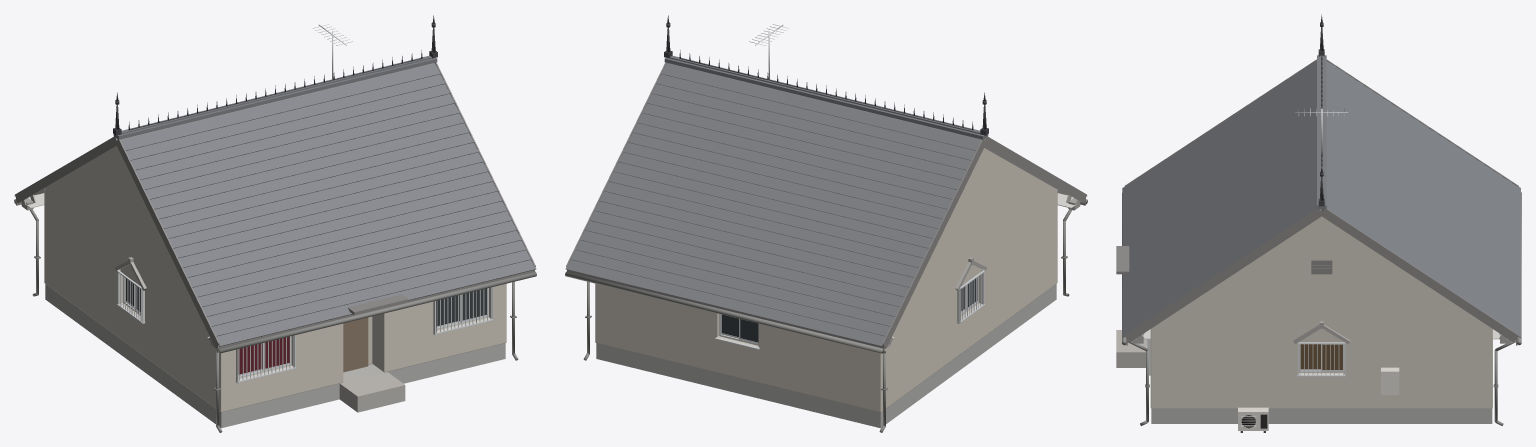
Rendered from blk_outerm1_0_0.glb.
3 views of the same model, side by side, from view 1: azimuth 30°, elevation 25°; view 2: azimuth 150°, elevation 25°; view 3: azimuth 270°, elevation 25° (orthographic). The views are drawn at different scales.
Visible parts, largest first — view 1: blk_outerm1_0_0; view 2: blk_outerm1_0_0; view 3: blk_outerm1_0_0.
Part boxes in pixels (box(x1,y1,x2,y2)): blk_outerm1_0_0: box(14, 15, 536, 432); blk_outerm1_0_0: box(565, 15, 1087, 432); blk_outerm1_0_0: box(1116, 14, 1521, 432).
Size of the model in its own units: 9.54 by 7.97 by 10.65.
